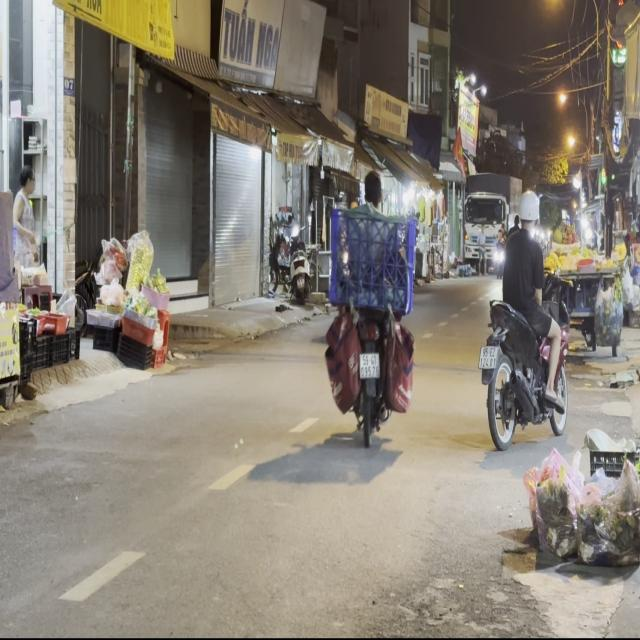helmet: (517, 189, 539, 228)
licenseplate: (322, 166, 417, 444), (476, 186, 570, 451)
motorcyclist: (361, 168, 382, 209)
nohelmet: (359, 352, 379, 376), (479, 345, 500, 367)
